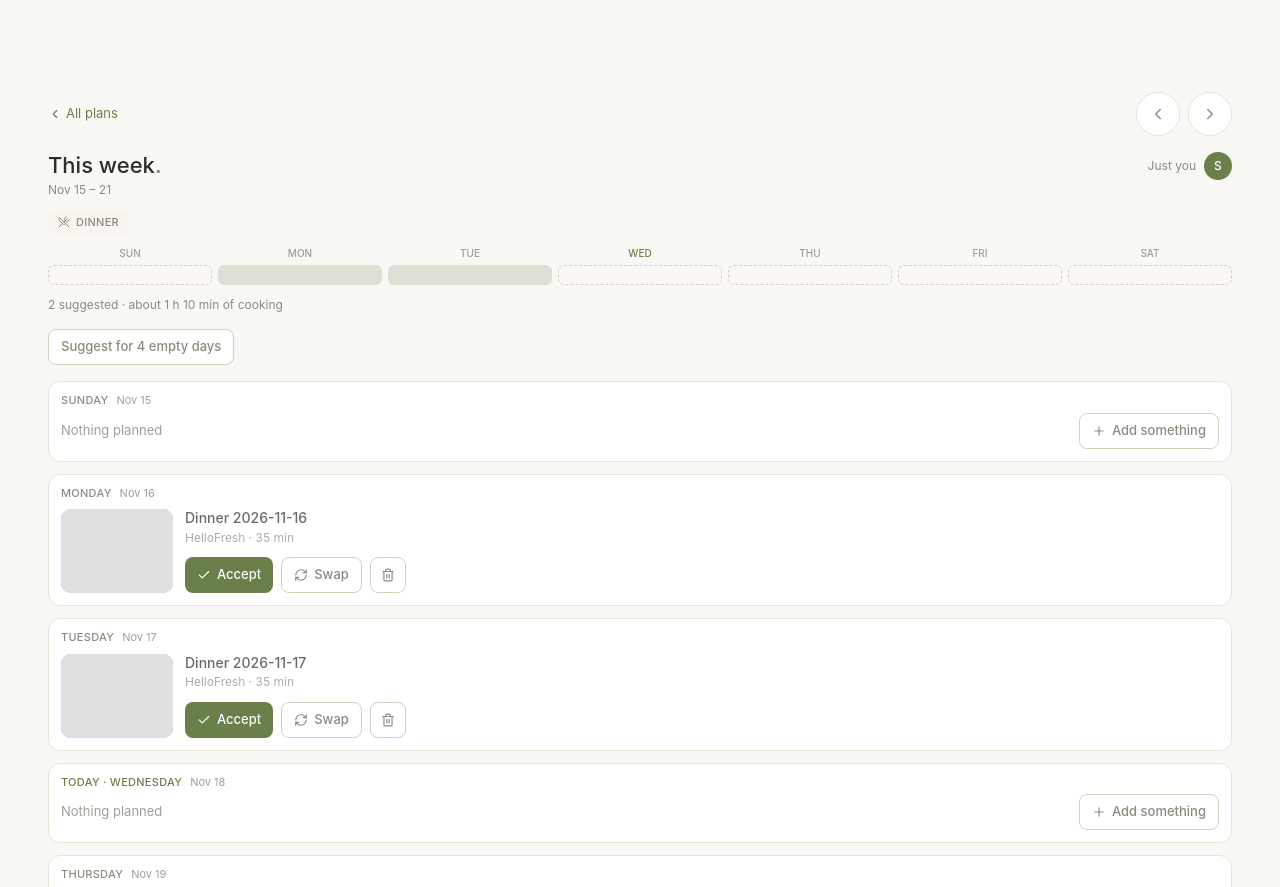
Test case: Week editor › acting on suggestions › accepts one, without touching the grocery list
The image size is (1280, 887).
Click the button with aria-label "Accept Monday dinner". click: (229,575)
box: [185, 557, 273, 593]
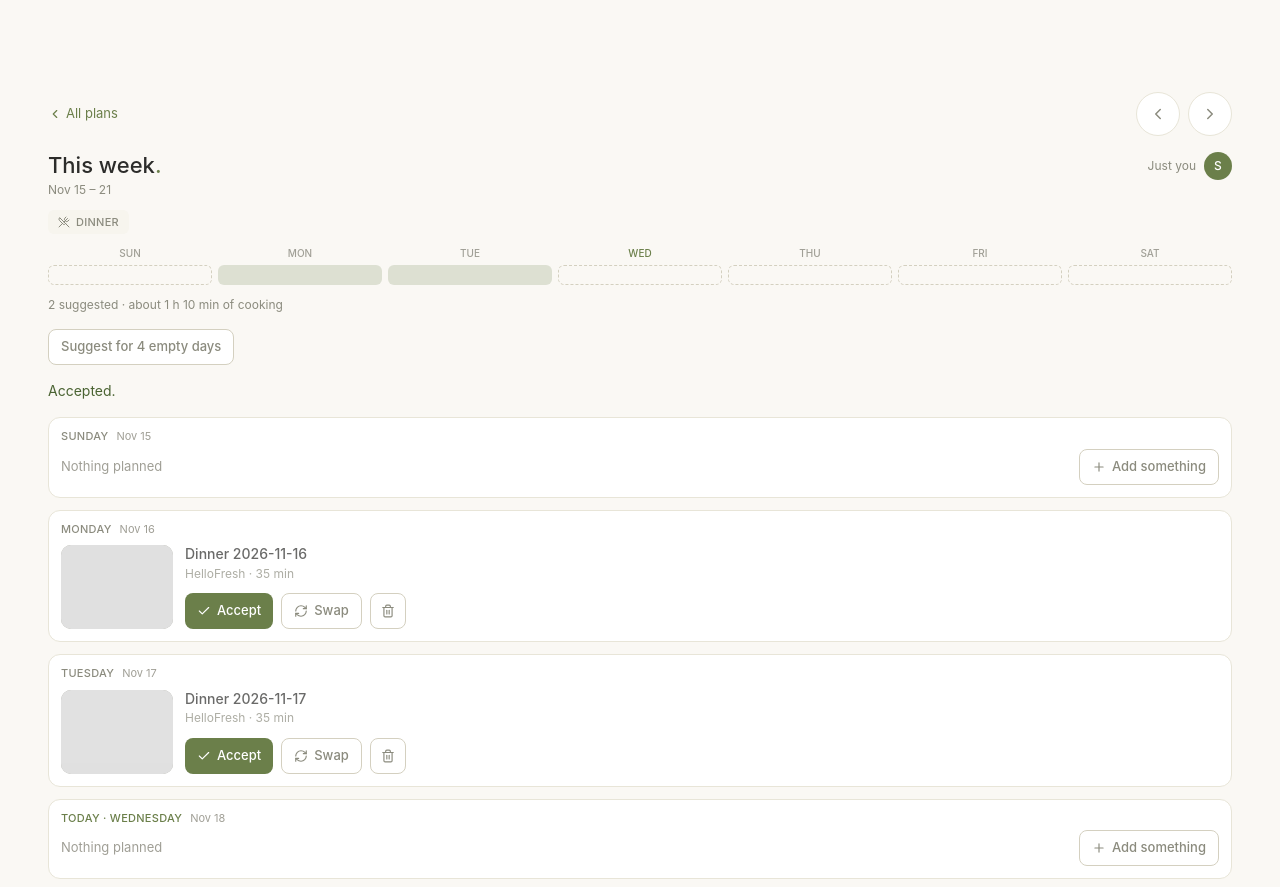
Result: the message reads "Accepted." at [48, 382, 116, 399]
